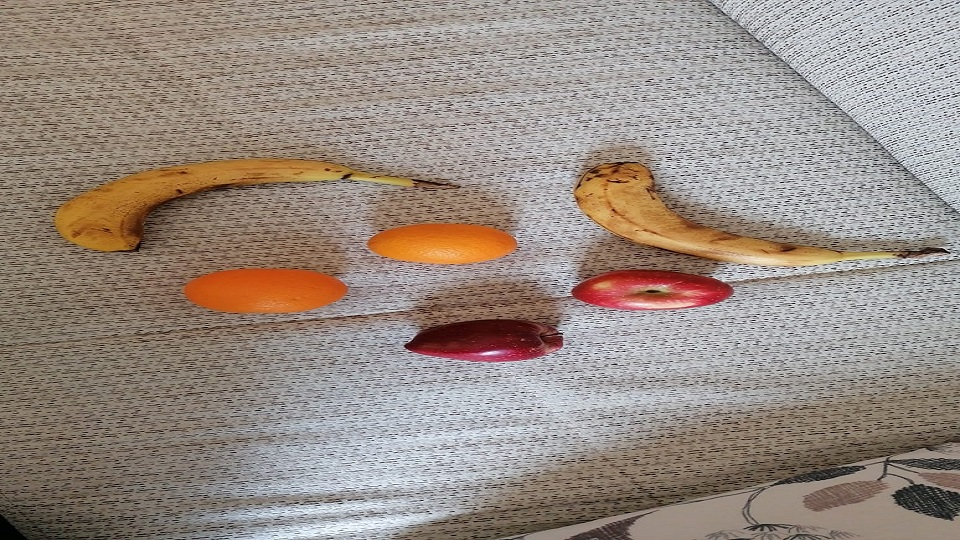elma: (402, 317, 565, 364), (570, 269, 735, 312)
muz: (575, 160, 951, 270), (53, 157, 460, 255)
portakal: (182, 268, 351, 316), (365, 222, 519, 267)
